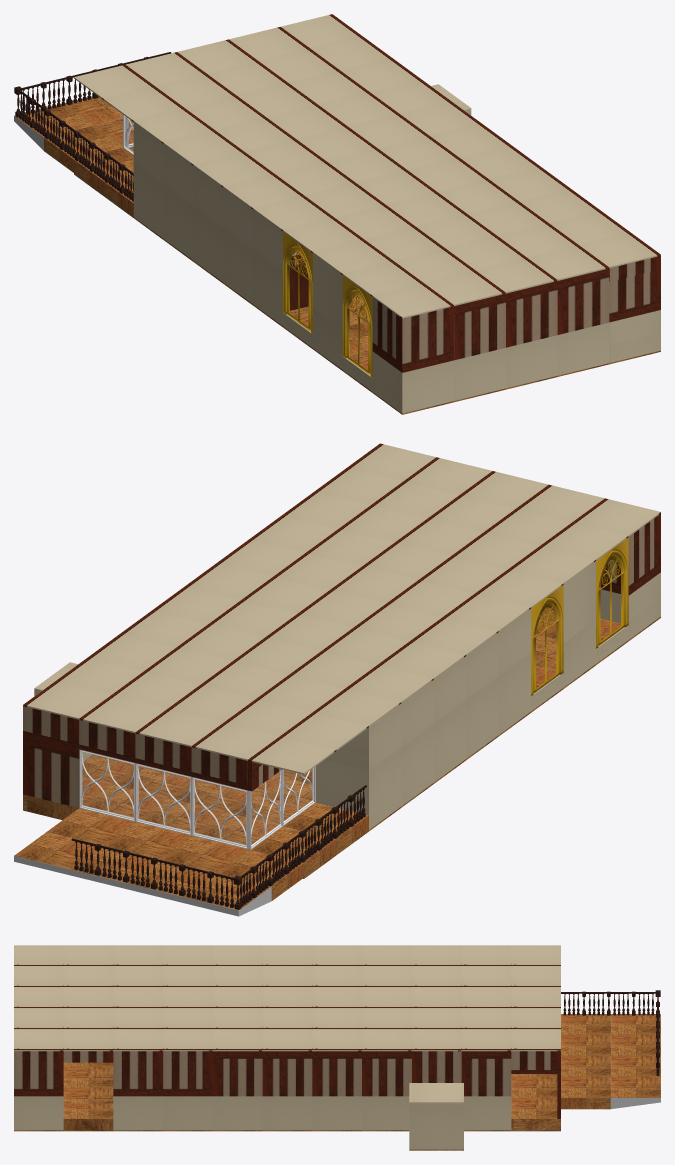
Rendered from Bedroom.fbx.
3 renders of one model, top to bottom at view 1: azimuth 30°, elevation 25°; view 2: azimuth 150°, elevation 25°; view 3: azimuth 270°, elevation 25°, orthographic. The views are drawn at different scales.
Parts seen in each view (by area): view 1: BedroomCeiling, BedroomWallB0LeftFirePlace, BedroomWallB1Front, BedroomWallB0Front, BedroomBalconyFloor, BedroomWallB1Left, BedroomWallB0LeftWindow, BedroomWallB0Left, BedroomBalconyRail, BedroomWallB1Right, BedroomWallB0Right, BedroomWallWindow (+6 smaller); view 2: BedroomCeiling, BedroomWallB0LeftFirePlace, BedroomBalconyFloor, BedroomFloorStairs, BedroomWindowCeiling, BedroomWallB0LeftWindow, BedroomWallB0Back, BedroomBalconyRail, BedroomBalconyRail.001, BedroomFloor, BedroomWallB1Left, BedroomWallB0Left (+8 smaller); view 3: BedroomCeiling, BedroomBalconyFloor, BedroomWallB1Right.001, BedroomWallB0Right.001, BedroomWallB1Right.002, BedroomWallHiddenRoom, BedroomWallB0Right.002, BedroomFloor, BedroomFloorStairs, BedroomWallB0Right.006, BedroomWallB1Right, BedroomWallB0Right (+7 smaller).
Boxes of the visible parts, <box> form: BedroomCeiling: <box>74,14,660,318</box>; BedroomWallB0LeftFirePlace: <box>133,122,308,325</box>; BedroomWallB1Front: <box>454,268,609,360</box>; BedroomWallB0Front: <box>454,322,609,400</box>; BedroomBalconyFloor: <box>14,96,133,216</box>; BedroomWallB1Left: <box>372,297,453,372</box>; BedroomWallB0LeftWindow: <box>283,253,372,391</box>; BedroomWallB0Left: <box>372,351,453,413</box>; BedroomBalconyRail: <box>30,98,133,201</box>; BedroomWallB1Right: <box>609,269,660,322</box>; BedroomWallB0Right: <box>609,310,660,362</box>; BedroomWallWindow: <box>342,275,372,377</box>; BedroomCeiling: <box>23,443,660,774</box>; BedroomWallB0LeftFirePlace: <box>315,608,531,829</box>; BedroomBalconyFloor: <box>14,802,368,916</box>; BedroomFloorStairs: <box>23,755,302,844</box>; BedroomWindowCeiling: <box>23,706,247,790</box>; BedroomWallB0LeftWindow: <box>531,561,628,710</box>; BedroomWallB0Back: <box>23,735,79,807</box>; BedroomBalconyRail: <box>250,785,366,898</box>; BedroomBalconyRail.001: <box>71,838,213,903</box>; BedroomFloor: <box>23,607,660,878</box>; BedroomWallB1Left: <box>601,513,660,595</box>; BedroomWallB0Left: <box>600,572,660,639</box>; BedroomCeiling: <box>14,945,560,1051</box>; BedroomBalconyFloor: <box>561,1014,660,1109</box>; BedroomWallB1Right.001: <box>213,1051,411,1096</box>; BedroomWallB0Right.001: <box>213,1096,409,1130</box>; BedroomWallB1Right.002: <box>113,1051,212,1096</box>; BedroomWallHiddenRoom: <box>409,1083,463,1150</box>; BedroomWallB0Right.002: <box>113,1096,212,1130</box>; BedroomFloor: <box>14,1062,560,1131</box>; BedroomFloorStairs: <box>511,1074,560,1130</box>; BedroomWallB0Right.006: <box>461,1051,511,1096</box>; BedroomWallB1Right: <box>14,1055,63,1096</box>; BedroomWallB0Right: <box>14,1096,63,1130</box>.
Bounding box in the file's own units: 1185 × 360 × 2602.
